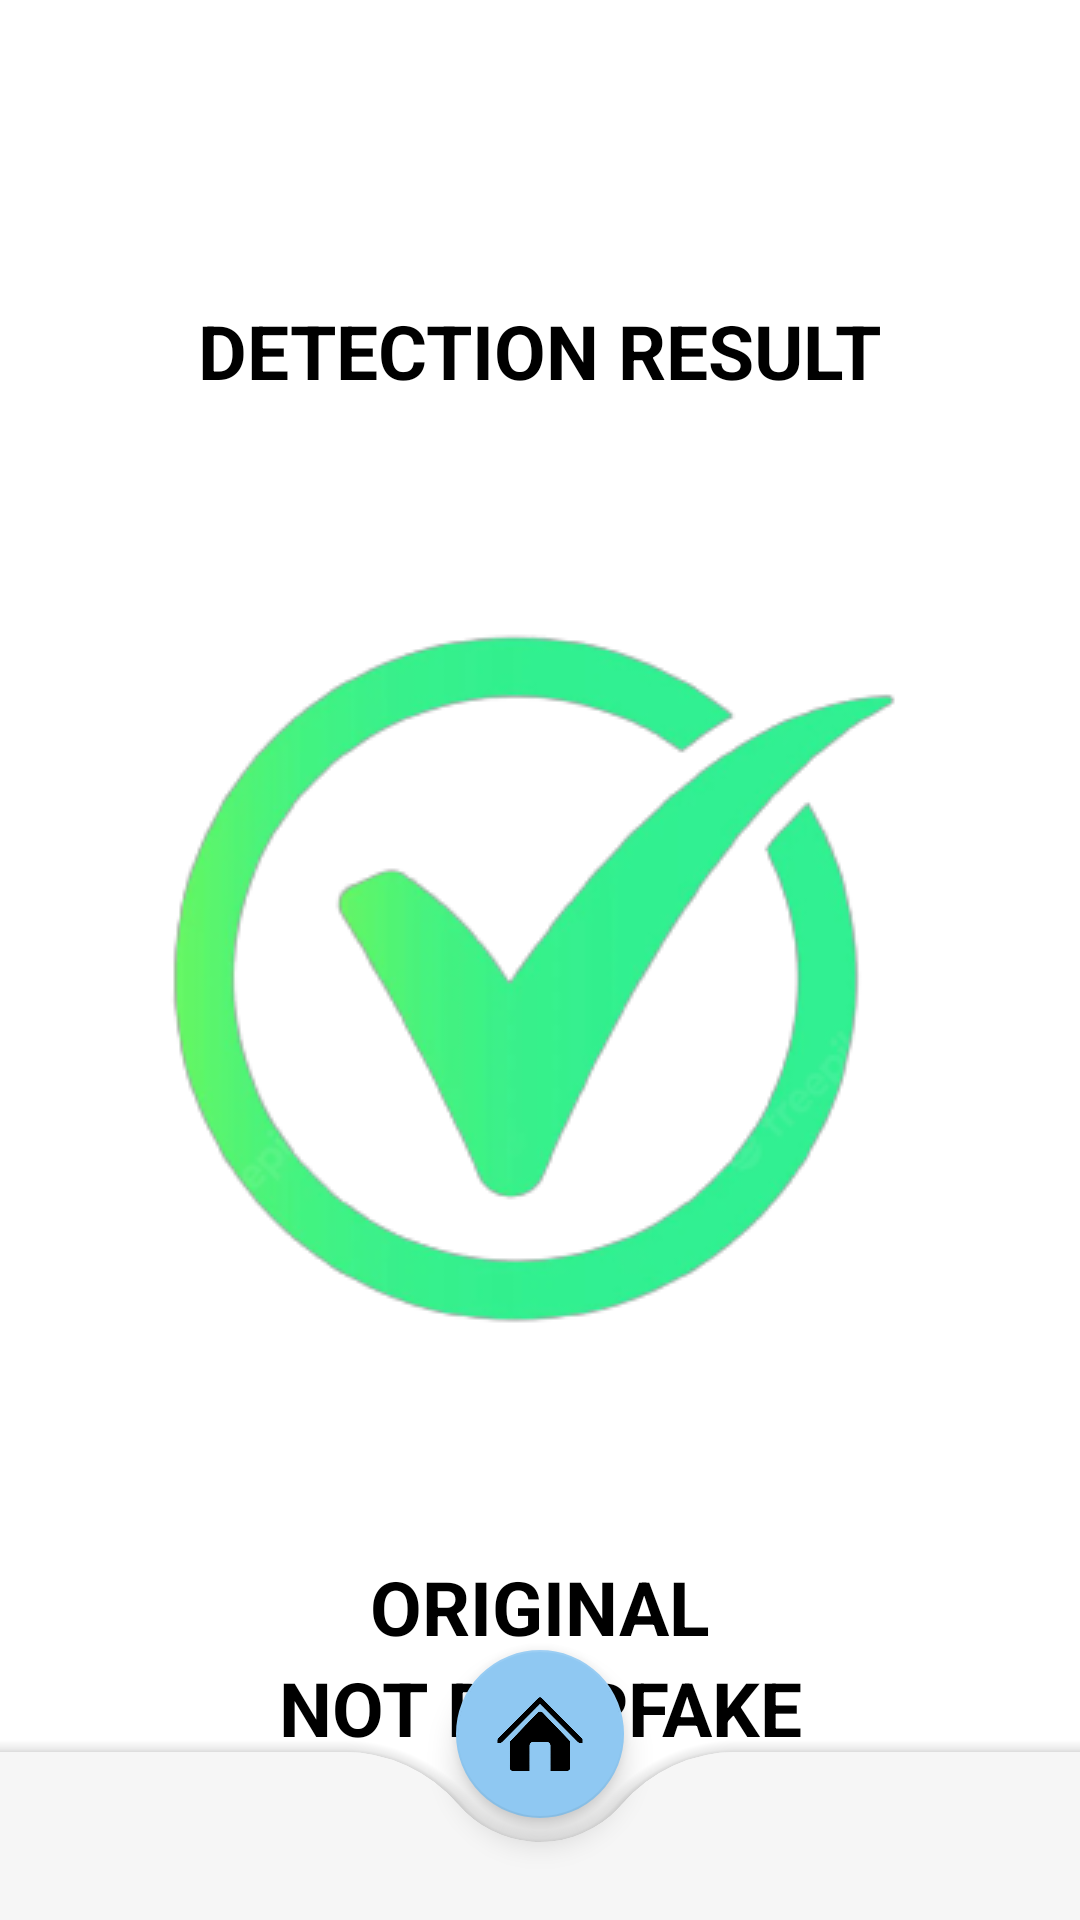

Icons on this 1080*1920 Android screen, each with the point to tap as point (x, y):
homebtn: point (540, 1752)
